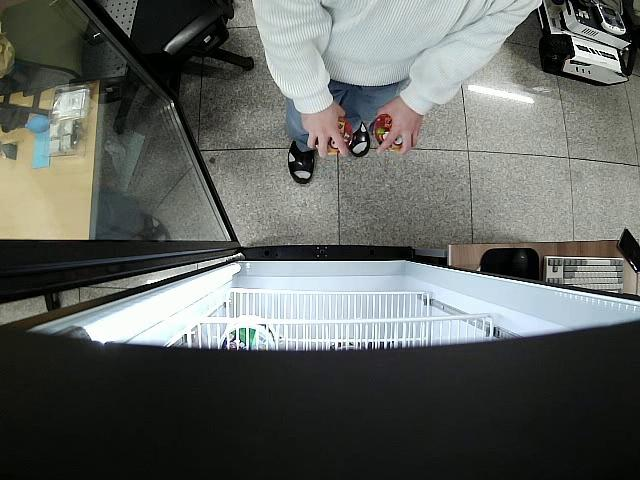00_hand: (373, 100, 420, 156), (302, 106, 349, 158)
06_nuguri_S: (315, 117, 353, 156), (376, 114, 414, 151)
